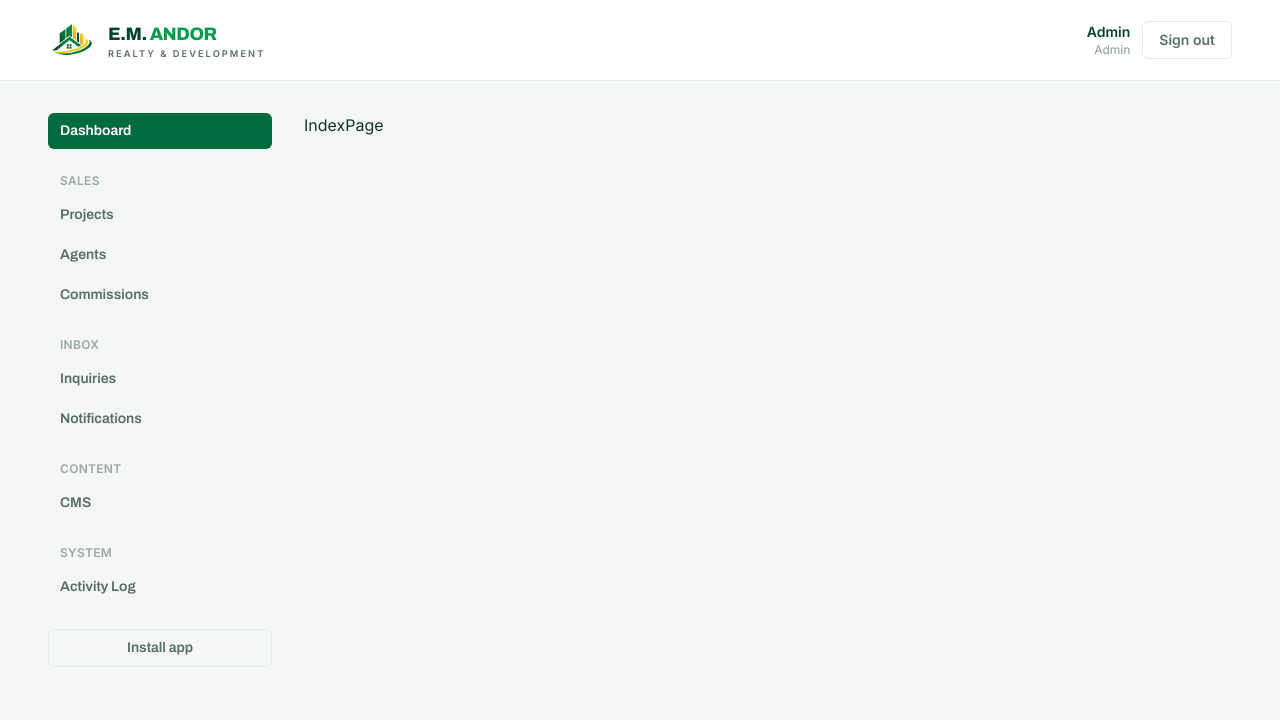
Test: AdminLayout › shows Install app and prompts when the browser offers an install
The width and height of the screenshot is (1280, 720).
Expected: the text "IndexPage" is shown, [304, 115, 384, 135]
Click the button "Install app".
click(160, 648)  # box [48, 629, 272, 667]
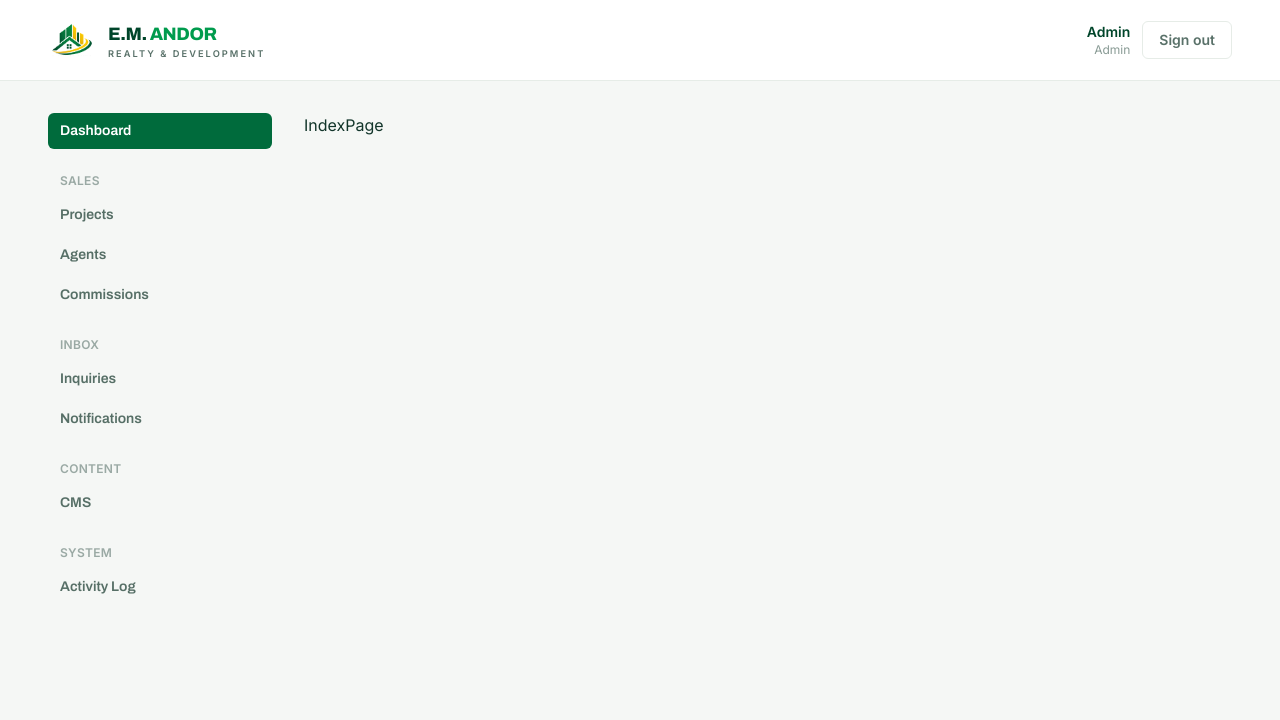
Expected: the button "Install app" is gone
